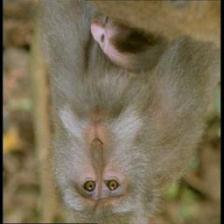monkey: (62, 97, 152, 223), (86, 13, 161, 73)
